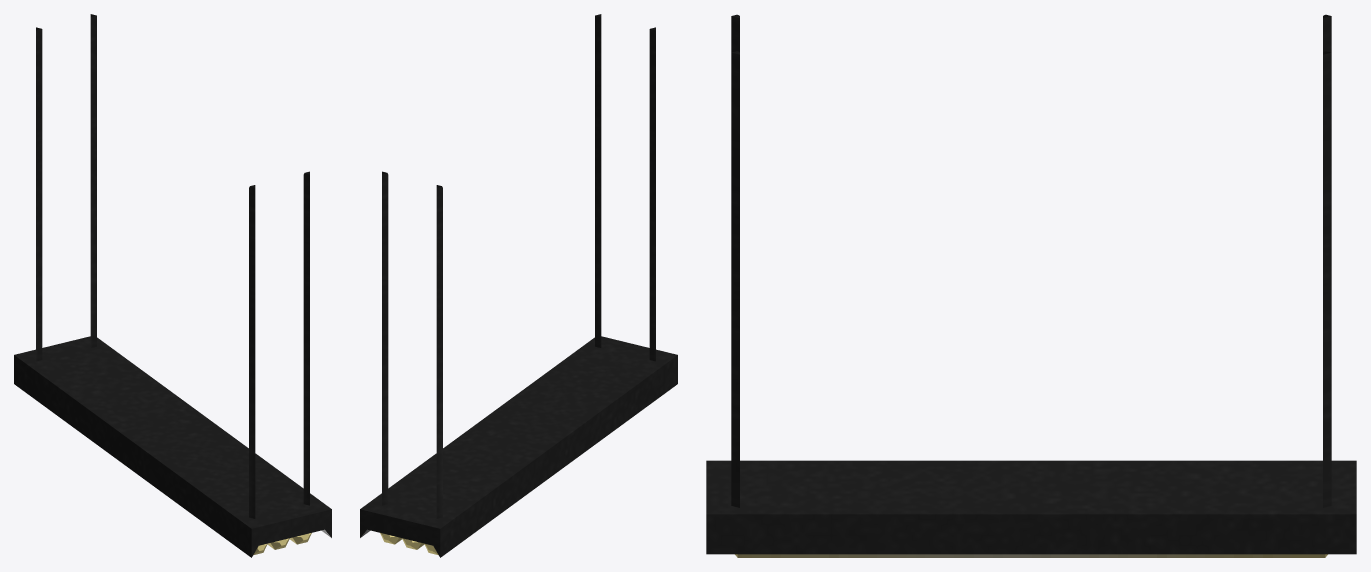
Rendered from ceiling_light.fbx.
3 renders of one model, left to right at view 1: azimuth 30°, elevation 25°; view 2: azimuth 150°, elevation 25°; view 3: azimuth 270°, elevation 25°, orthographic. The views are drawn at different scales.
Visible parts, largest first — view 1: light, neons; view 2: light, neons; view 3: light, neons.
Part boxes in pixels (left/top/right/bottom): light: left=14, top=14, right=331, bottom=557; neons: left=253, top=533, right=311, bottom=555; light: left=360, top=14, right=677, bottom=557; neons: left=380, top=533, right=438, bottom=555; light: left=706, top=14, right=1356, bottom=554; neons: left=735, top=554, right=1327, bottom=557.
Size of the model in its own units: 72.69 by 319 by 372.
